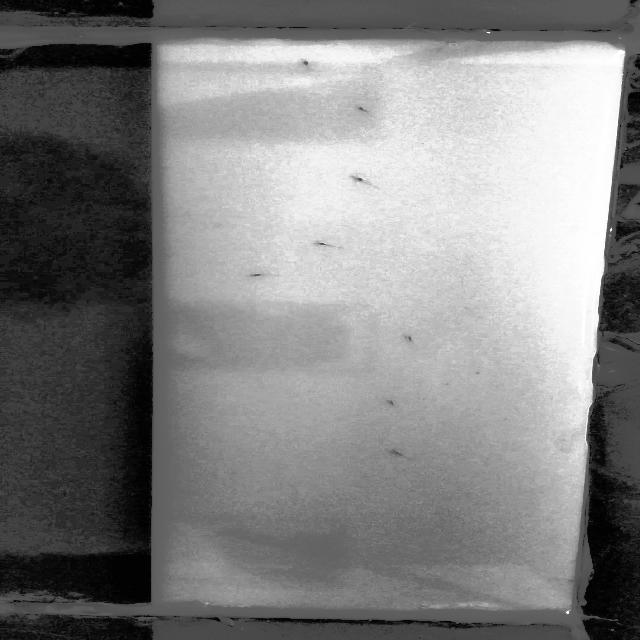shrimp: (350, 174, 378, 188), (311, 243, 349, 252), (239, 270, 275, 279), (356, 102, 377, 116), (389, 447, 412, 459), (406, 334, 424, 346), (386, 400, 404, 408), (298, 60, 313, 68)
